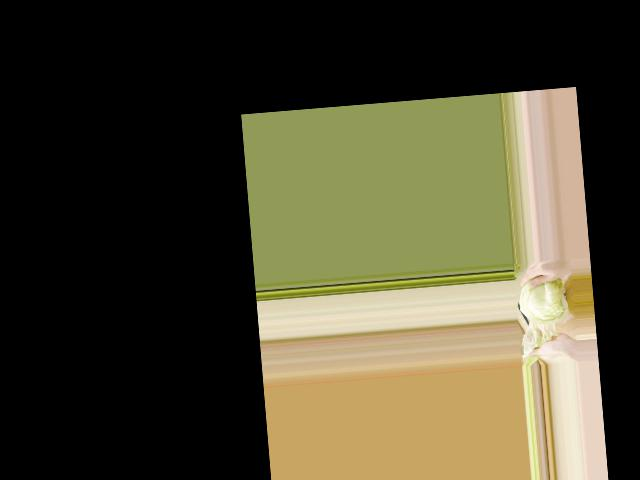lettuce: (515, 273, 573, 337)
